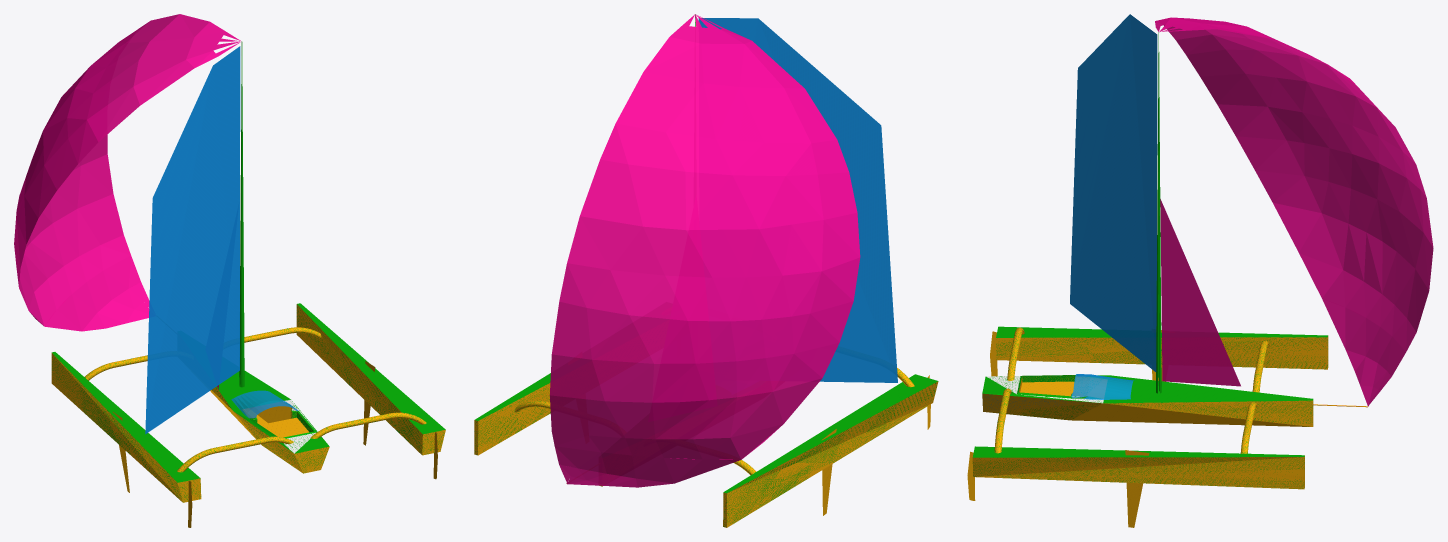
Rendered from genak_tribord_trimaran.dae.
3 views of the same model, side by side, from view 1: azimuth 30°, elevation 25°; view 2: azimuth 150°, elevation 25°; view 3: azimuth 270°, elevation 25° (orthographic). The views are drawn at different scales.
Parts seen in each view (by area): view 1: SketchUp (×14); view 2: SketchUp (×5); view 3: SketchUp (×16).
Part boxes in pixels (left/top/right/bottom): SketchUp (×14): left=14, top=14, right=445, bottom=502; SketchUp (×5): left=474, top=14, right=938, bottom=527; SketchUp (×16): left=972, top=14, right=1433, bottom=527.
Size of the model in its own units: 102762 by 129270 by 135266.
Materials: 21 (5 with a texture image).
